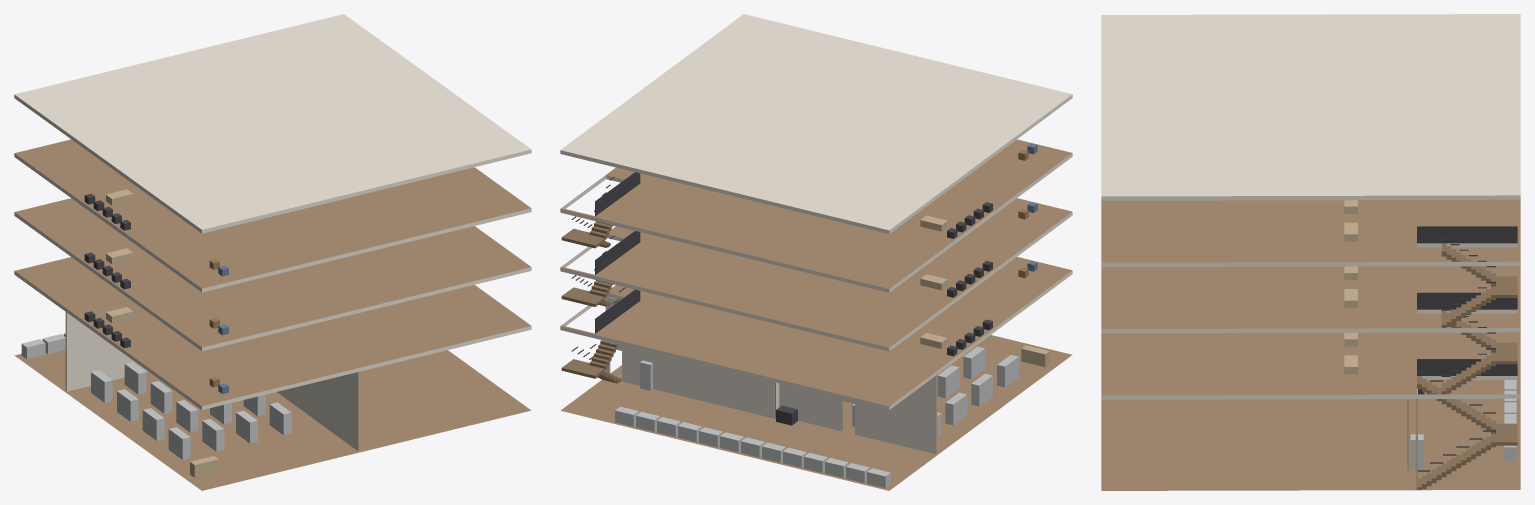
File: interior.glb
3 renders of one model, left to right at view 1: azimuth 30°, elevation 25°; view 2: azimuth 150°, elevation 25°; view 3: azimuth 270°, elevation 25°, orthographic. The views are drawn at different scales.
Visible parts, largest first — view 1: slabs, coarse-s0, partitions, coarse-s1, coarse-s2, coarse-s3; view 2: slabs, partitions, coarse-s0, stair, coarse-s1, coarse-s3, coarse-s2; view 3: slabs, stair, coarse-s0, partitions, coarse-s1, coarse-s2, coarse-s3.
Boxes of the visible parts, box(x1,y1,x2,y2) form: slabs: box(14, 14, 531, 490); coarse-s0: box(21, 333, 291, 477); partitions: box(65, 312, 359, 451); coarse-s1: box(84, 307, 228, 393); coarse-s2: box(84, 248, 228, 335); coarse-s3: box(84, 189, 228, 276); slabs: box(560, 14, 1072, 490); partitions: box(605, 297, 937, 454); coarse-s0: box(615, 345, 1049, 488); stair: box(561, 172, 640, 383); coarse-s1: box(920, 261, 1037, 356); coarse-s3: box(920, 143, 1037, 238); coarse-s2: box(920, 202, 1037, 297); slabs: box(1101, 14, 1520, 490); stair: box(1417, 226, 1517, 489); coarse-s0: box(1410, 380, 1516, 469); partitions: box(1407, 388, 1417, 489); coarse-s1: box(1344, 332, 1357, 374); coarse-s2: box(1344, 266, 1357, 307); coarse-s3: box(1344, 200, 1357, 241).
Size of the model in its own units: 23.64 by 17.81 by 22.94.
